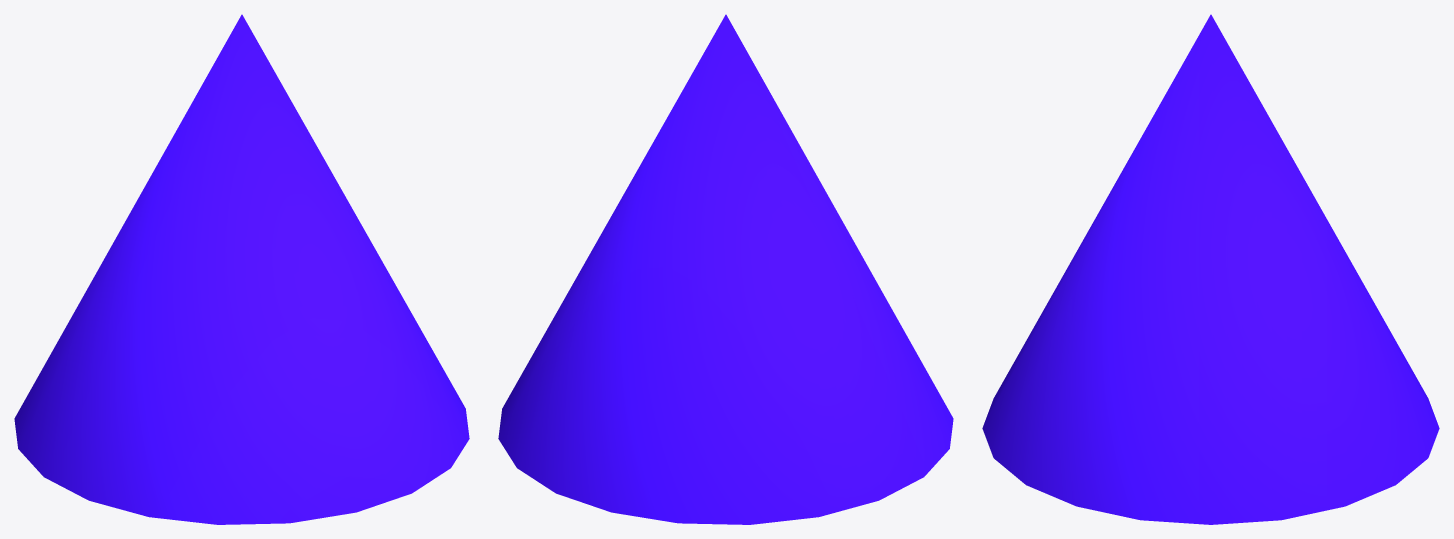
The model's file is BaseCone.006.glb.
3 views of the same model, side by side, from view 1: azimuth 30°, elevation 25°; view 2: azimuth 150°, elevation 25°; view 3: azimuth 270°, elevation 25° (orthographic).
Visible parts, largest first — view 1: BaseCone.006; view 2: BaseCone.006; view 3: BaseCone.006.
Part boxes in pixels (x1=…): BaseCone.006: x1=14, y1=14, x2=469, y2=524; BaseCone.006: x1=498, y1=14, x2=953, y2=524; BaseCone.006: x1=982, y1=14, x2=1439, y2=524.
Size of what is drawn, in the model's own units: 0.7487 by 0.7487 by 0.7487.
1 material, 1 textured.
